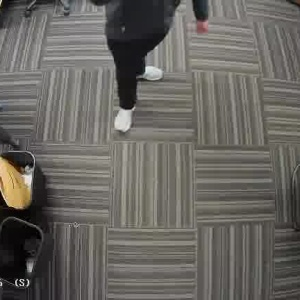person: (107, 0, 188, 137)
